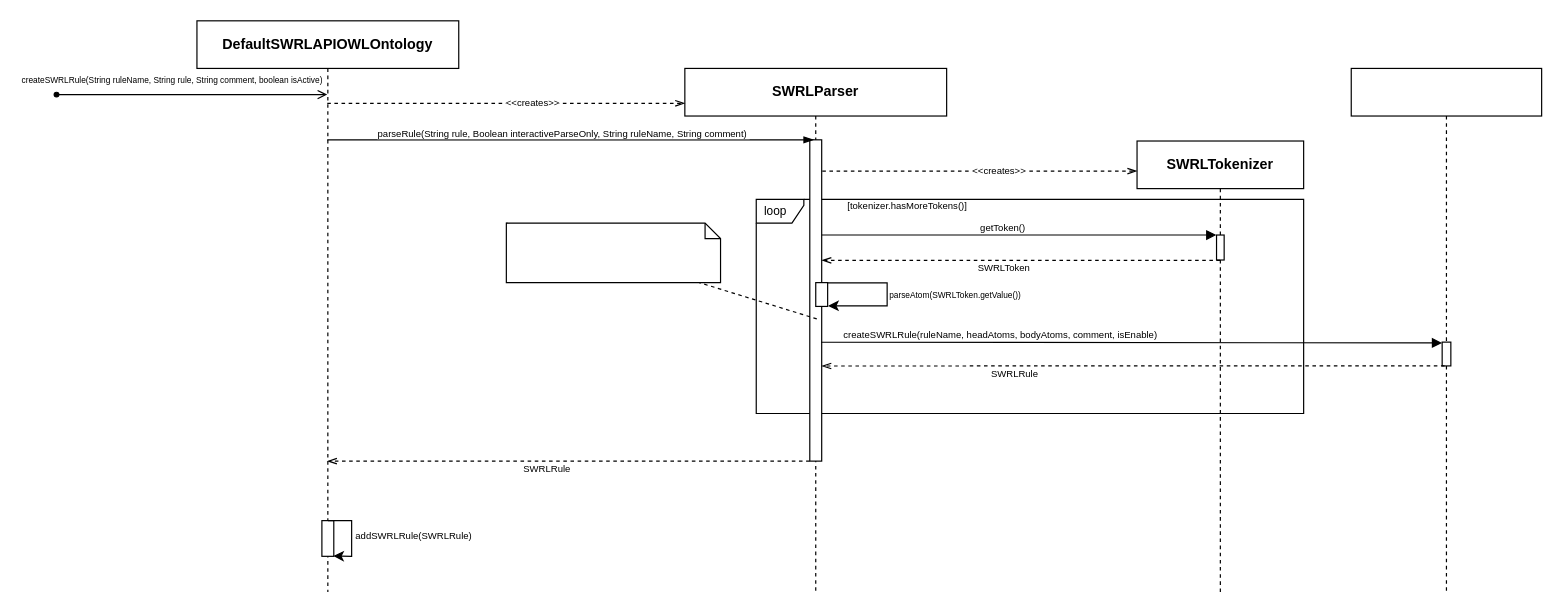
This 1562x613 diagram has some shape labels left out. The shapes that lost their labels are listed below. From the top down, each one's centre as x and y in pixels, then its label:
At (613,252): "The new atom is then added to the list of head atoms or the list of body atoms".
At (1446,329): "SWRLParserSupport".
